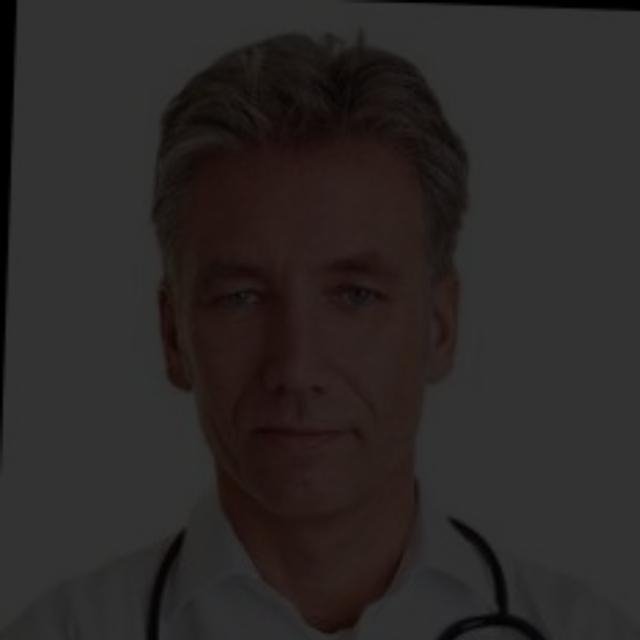Natural: (137, 143, 433, 522)
